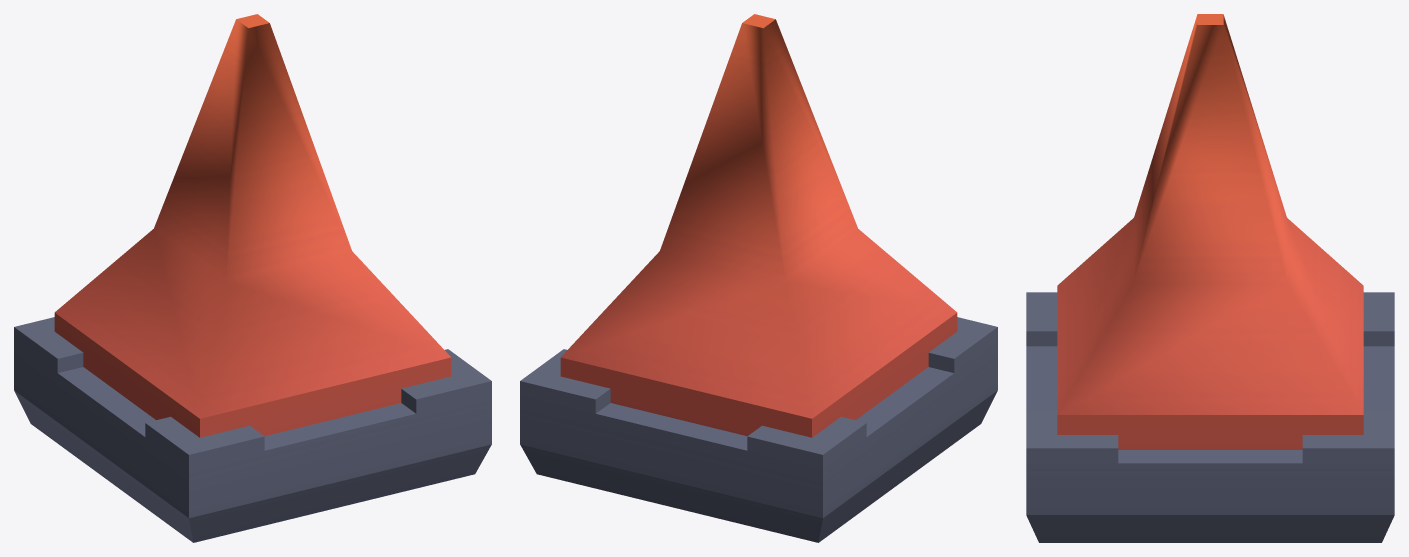
File: tower-square-top-roof-high.fbx
3 views of the same model, side by side, from view 1: azimuth 30°, elevation 25°; view 2: azimuth 150°, elevation 25°; view 3: azimuth 270°, elevation 25° (orthographic). The views are drawn at different scales.
Parts seen in each view (by area): view 1: tower-square-top-roof-high; view 2: tower-square-top-roof-high; view 3: tower-square-top-roof-high.
Part boxes in pixels (x1,y1,x2,y2): tower-square-top-roof-high: (14, 14, 491, 542); tower-square-top-roof-high: (520, 14, 997, 542); tower-square-top-roof-high: (1026, 14, 1394, 542).
Bounding box in the file's own units: 1 × 1 × 1.35.
